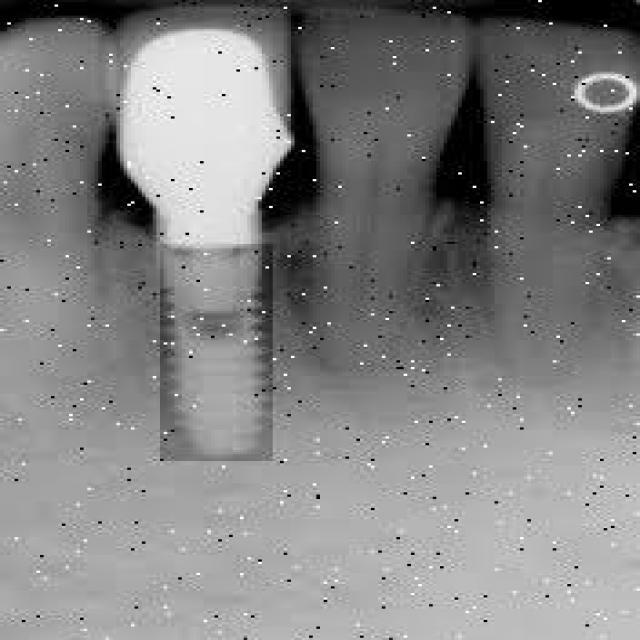Osstem Implant: (160, 238, 279, 465)
